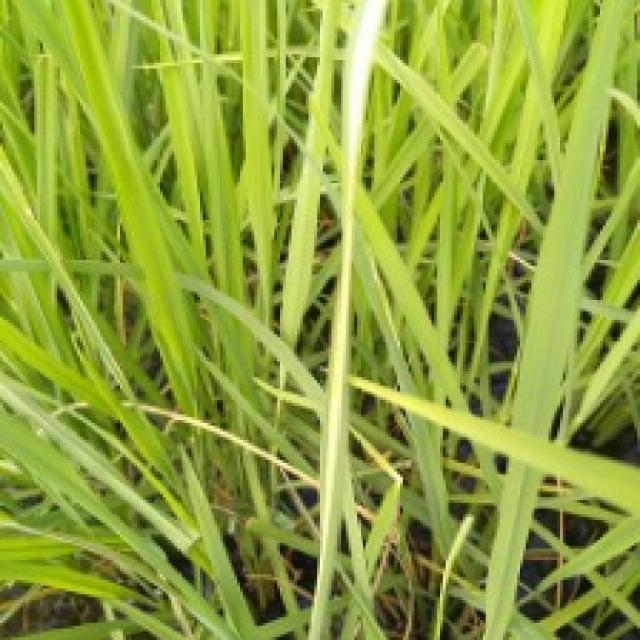Rice___Bacterial_Leaf_Blight: (302, 0, 392, 637)
